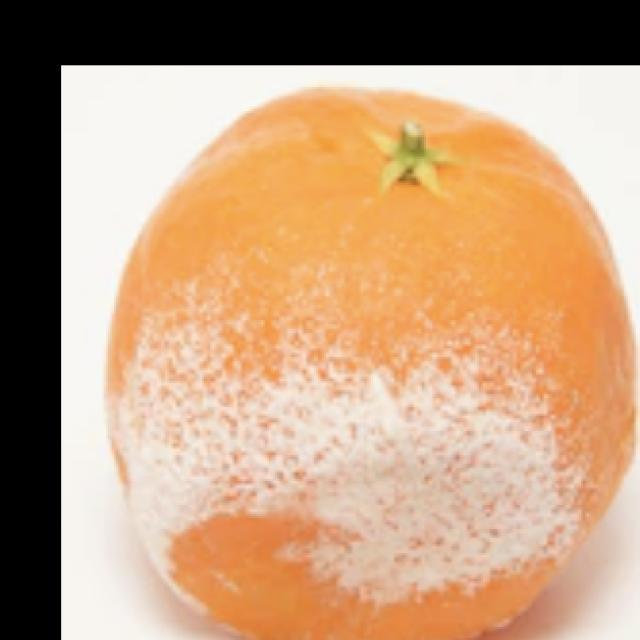sedikit-busuk: (107, 90, 634, 639)
